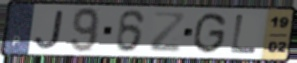6: (115, 9, 146, 54)
9: (68, 6, 102, 55)
G: (191, 12, 229, 56)
J: (33, 9, 66, 51)
L: (229, 13, 260, 55)
Z: (148, 10, 188, 54)
